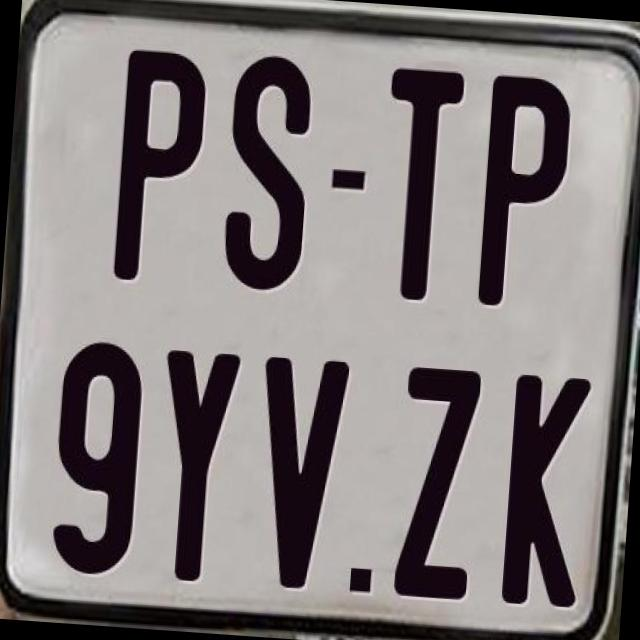9: (48, 336, 148, 580)
K: (496, 374, 590, 612)
P: (113, 47, 216, 285), (474, 70, 570, 316)
S: (220, 48, 318, 288)
T: (377, 64, 468, 300)
V: (246, 352, 353, 596)
Y: (148, 349, 240, 589)
Z: (392, 363, 479, 598)
